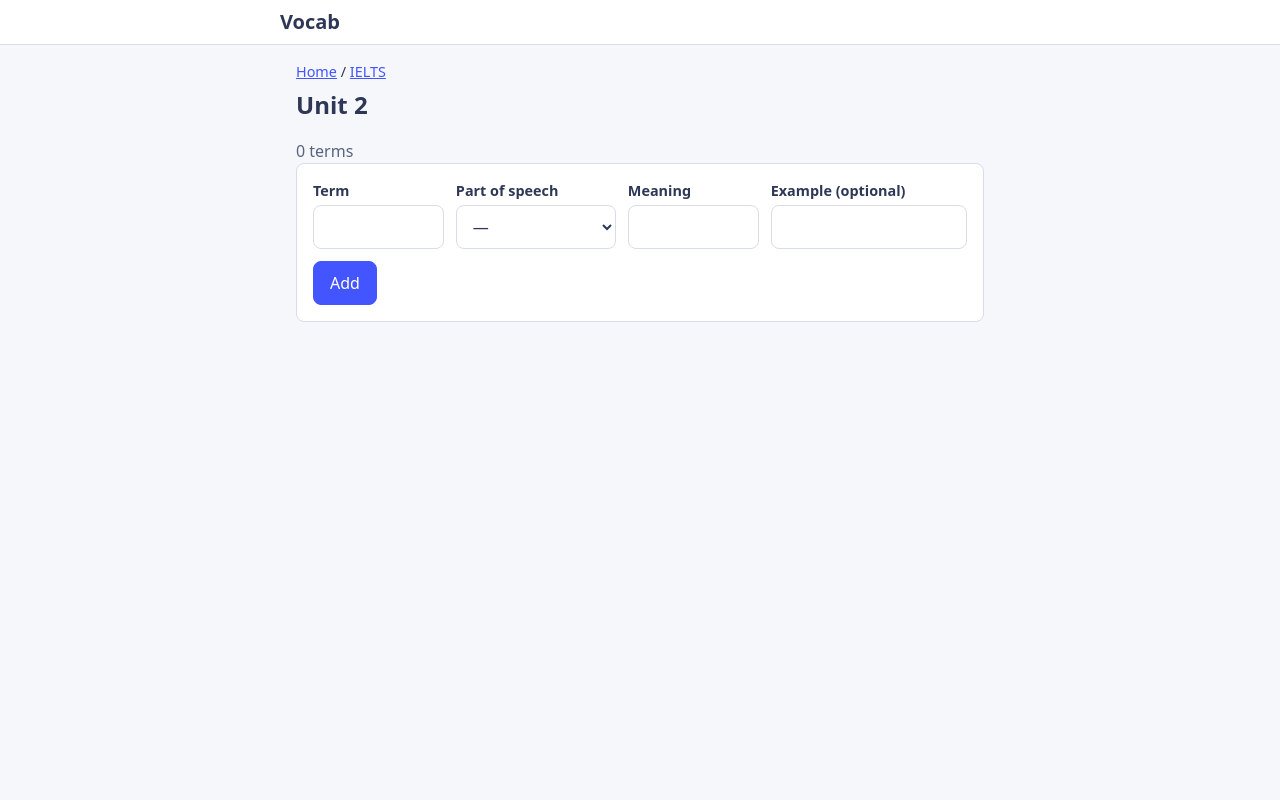
Scenario: terms › does not warn about the term being edited
Expected: the heading "Unit 2" is shown, [296,88,368,121]
Step 1. Type "walk" into the field labelled "Term" → (378,227), box [313,205,444,249]
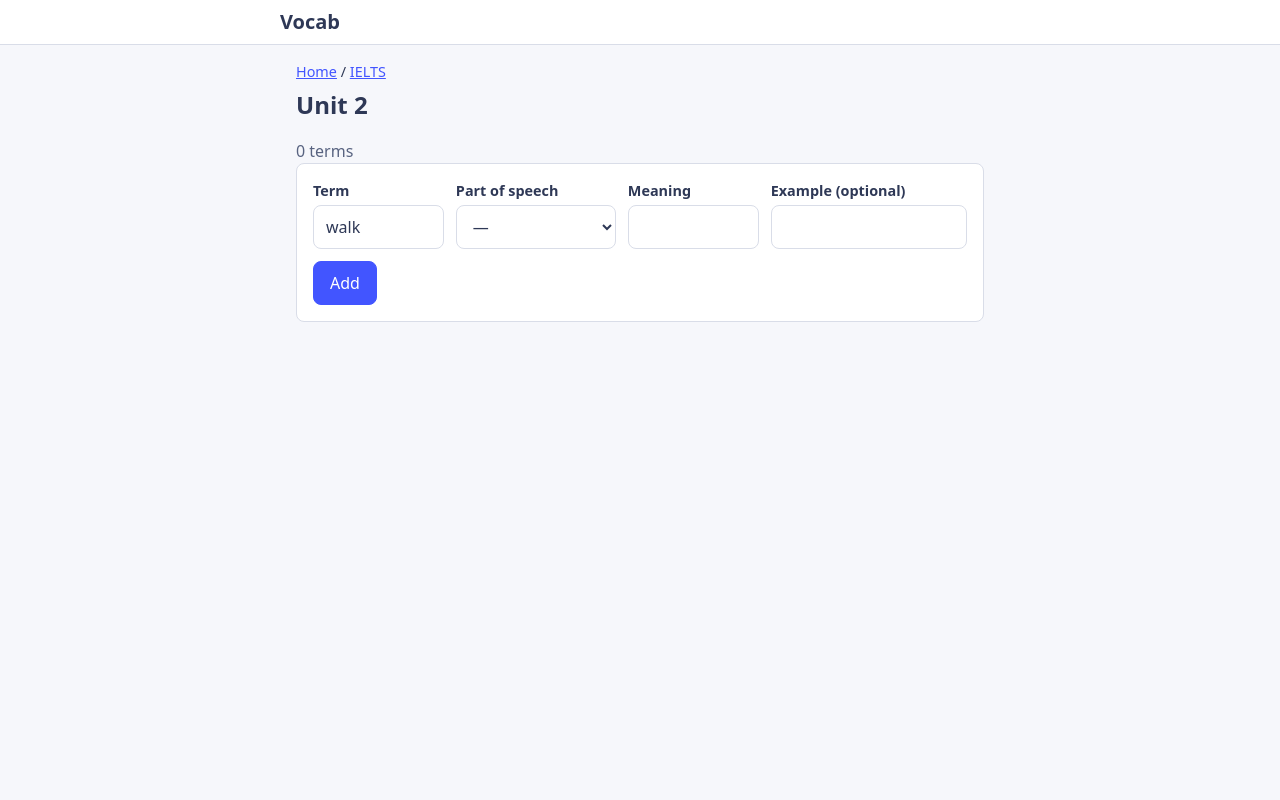
Step 2. Type "đi bộ" into the field labelled "Meaning" → (693,227), box [628,205,759,249]
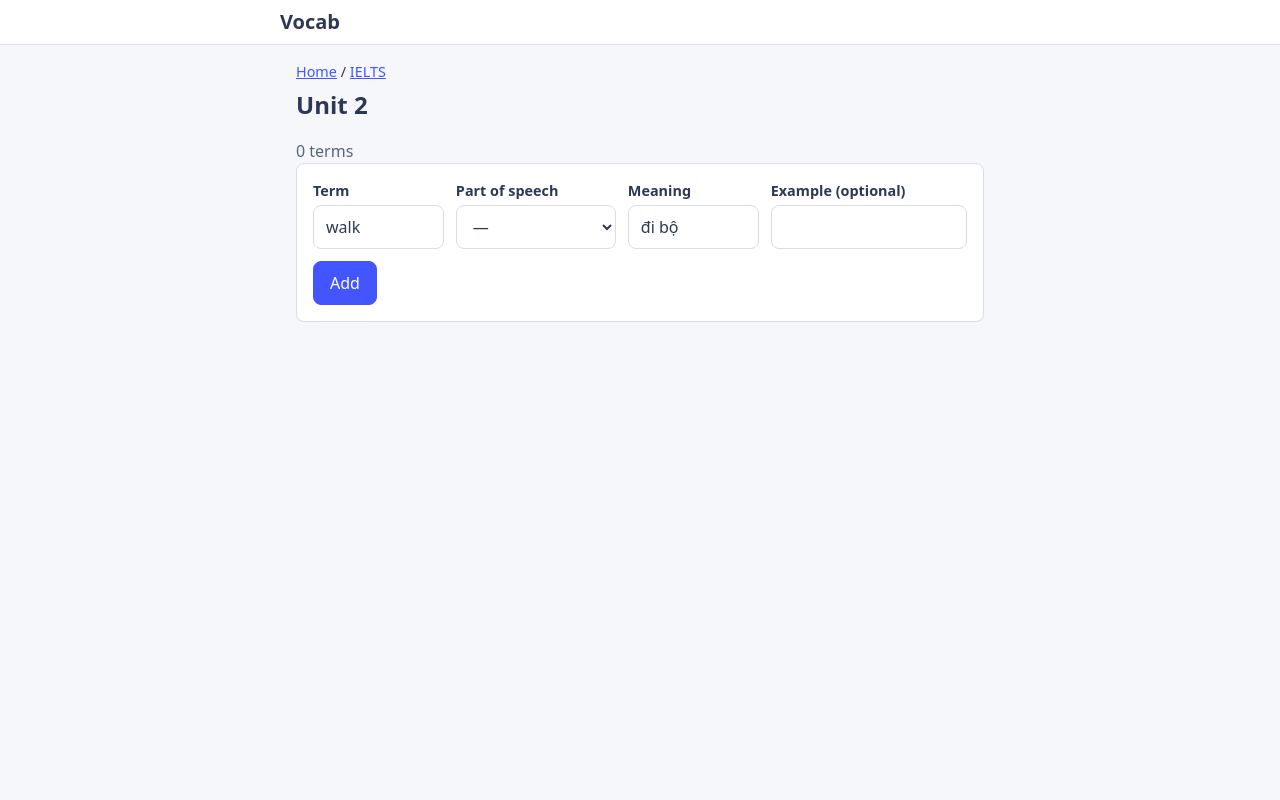
Step 3. Click the button "Add" → (345,283), box [313,261,377,305]
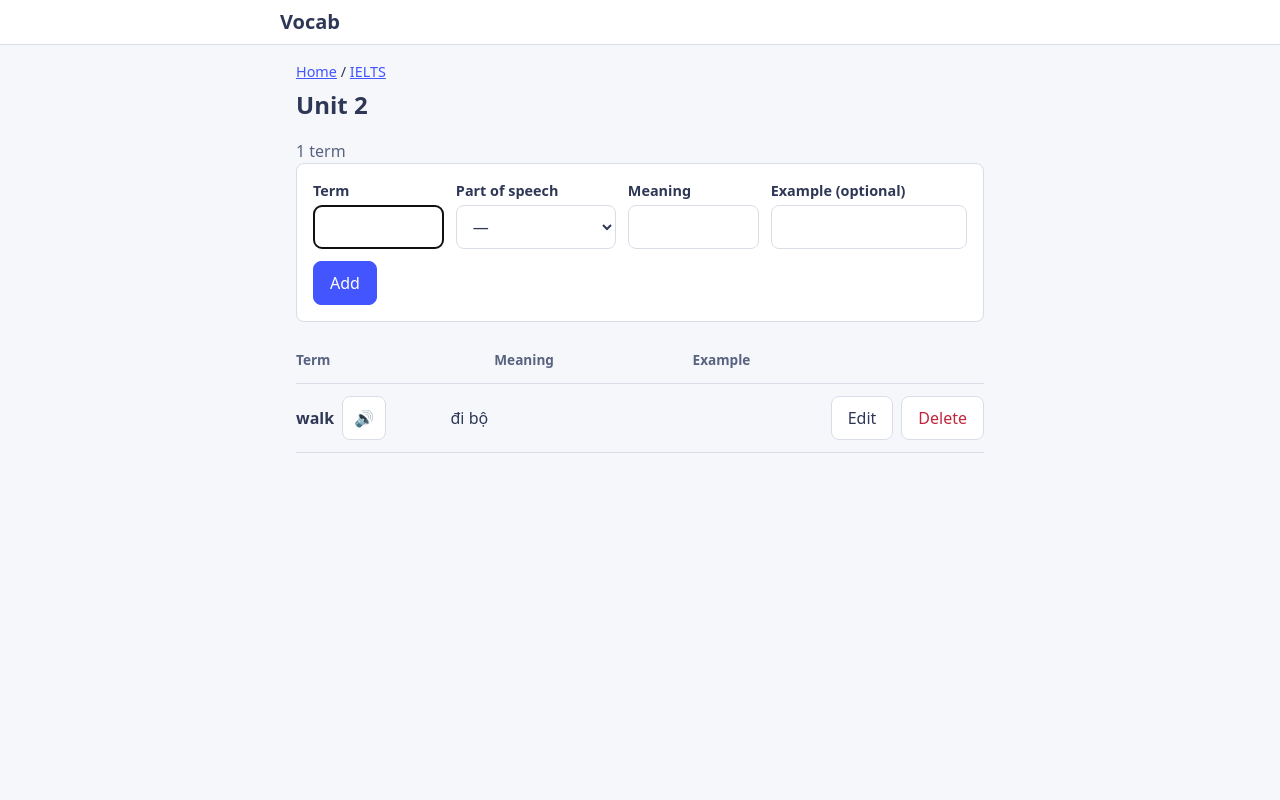
Expected: the text "walk" is shown, [296,406,334,430]
Step 4. Click the button "Edit" → (862,418), box [831,396,893,440]
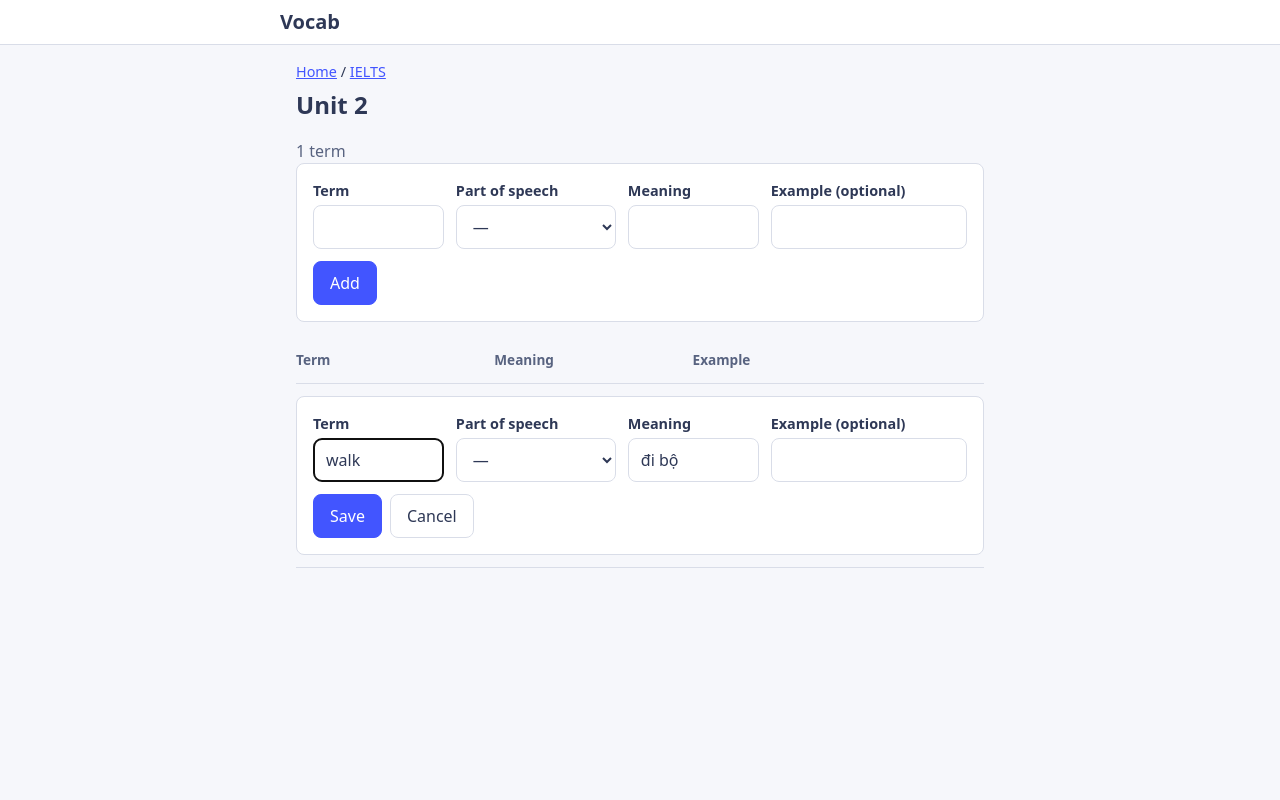
Step 5. Replace the text in the 2nd field labelled "Meaning" with "đi dạo" → (693,460), box [628,438,759,482]
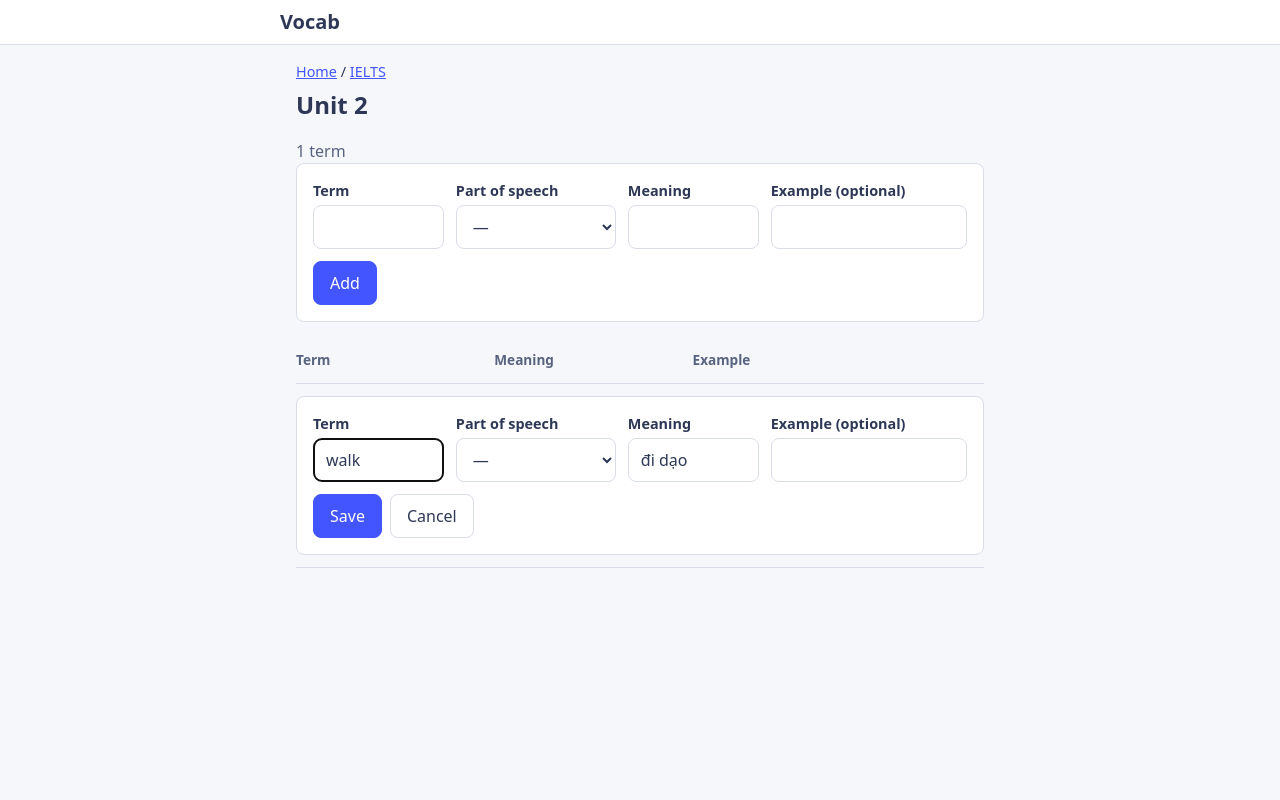
Step 6. Click the button "Save" → (347,516), box [313,494,382,538]
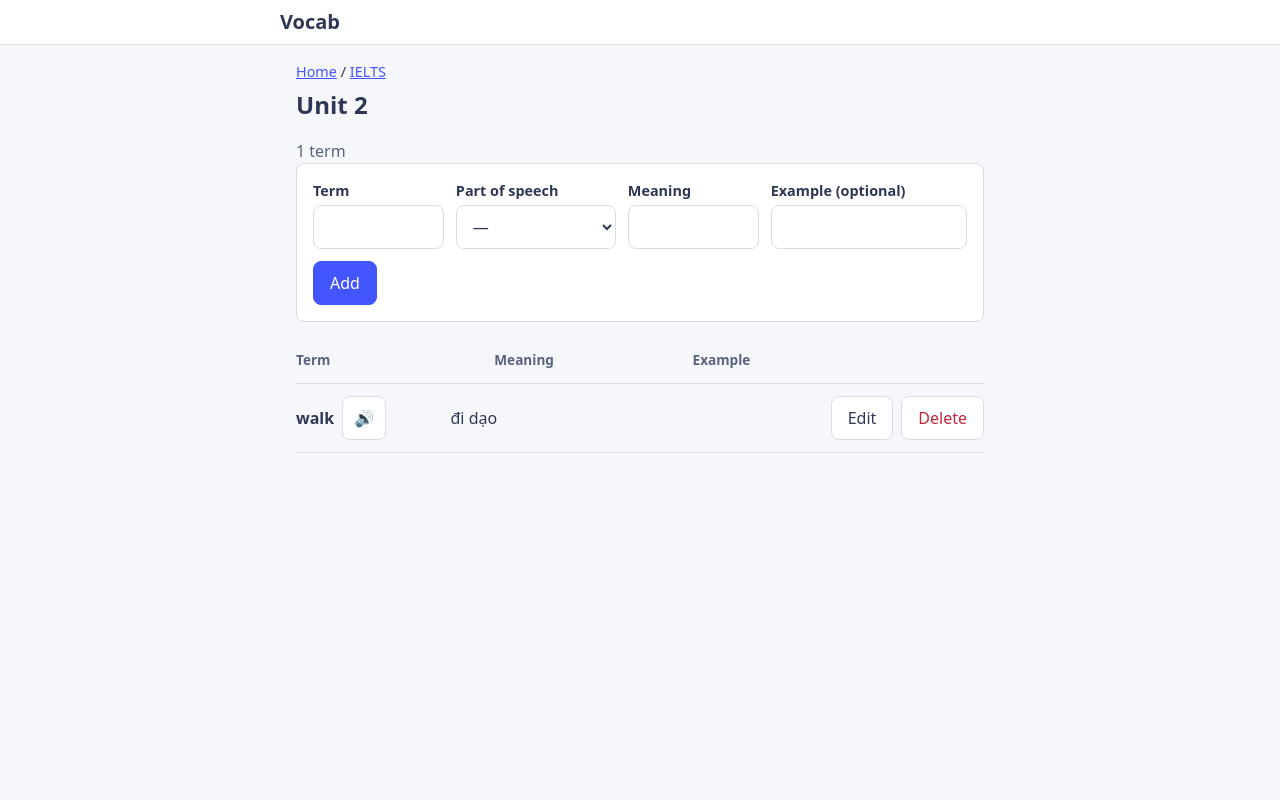
Expected: the text "đi dạo" is shown, [450,407,497,429]
